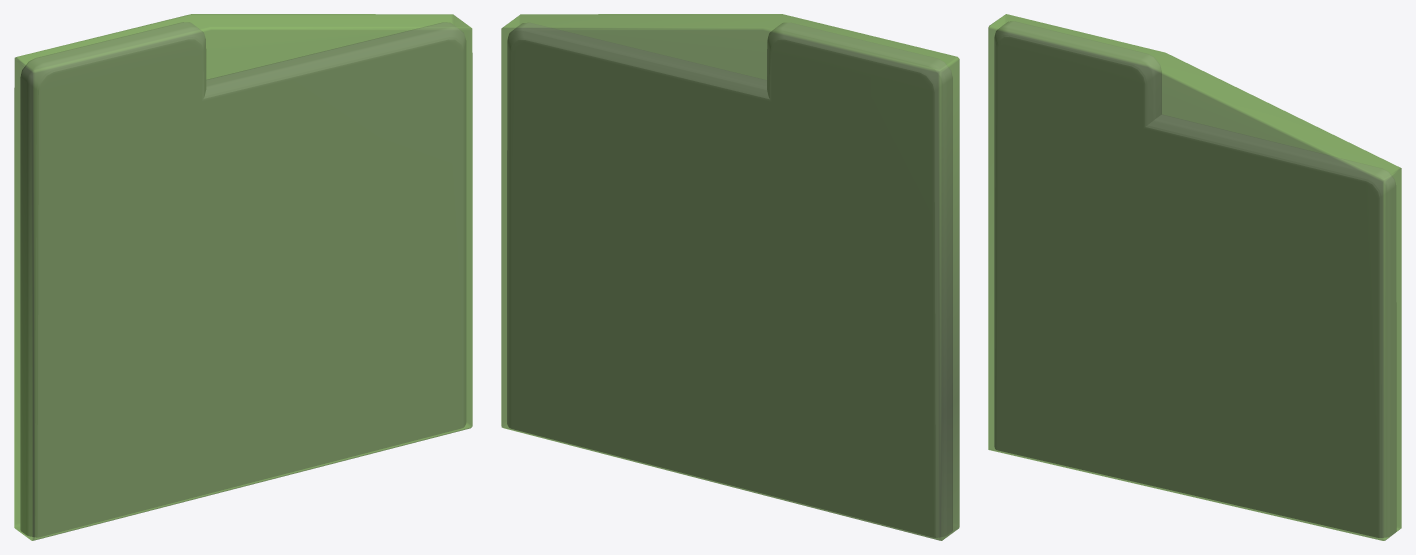
Rendered from M_md_Stall2_end_01.fbx.
The picture shows the model from 3 angles, left to right: view 1: azimuth 30°, elevation 25°; view 2: azimuth 150°, elevation 25°; view 3: azimuth 330°, elevation 25°; orthographic projection. The views are drawn at different scales.
Parts seen in each view (by area): view 1: M_md_Stall2_end_01_col_01, M_md_Stall2_end_01_LOD0; view 2: M_md_Stall2_end_01_col_01, M_md_Stall2_end_01_LOD0; view 3: M_md_Stall2_end_01_col_01, M_md_Stall2_end_01_LOD0.
Boxes of the visible parts, box(x1,y1,x2,y2) form: M_md_Stall2_end_01_col_01: box(14, 14, 472, 540); M_md_Stall2_end_01_LOD0: box(20, 22, 466, 537); M_md_Stall2_end_01_col_01: box(501, 14, 959, 540); M_md_Stall2_end_01_LOD0: box(507, 22, 952, 537); M_md_Stall2_end_01_col_01: box(988, 14, 1401, 540); M_md_Stall2_end_01_LOD0: box(994, 21, 1396, 537).
Size of what is drawn, in the model's own units: 108 by 110 by 8.57.
